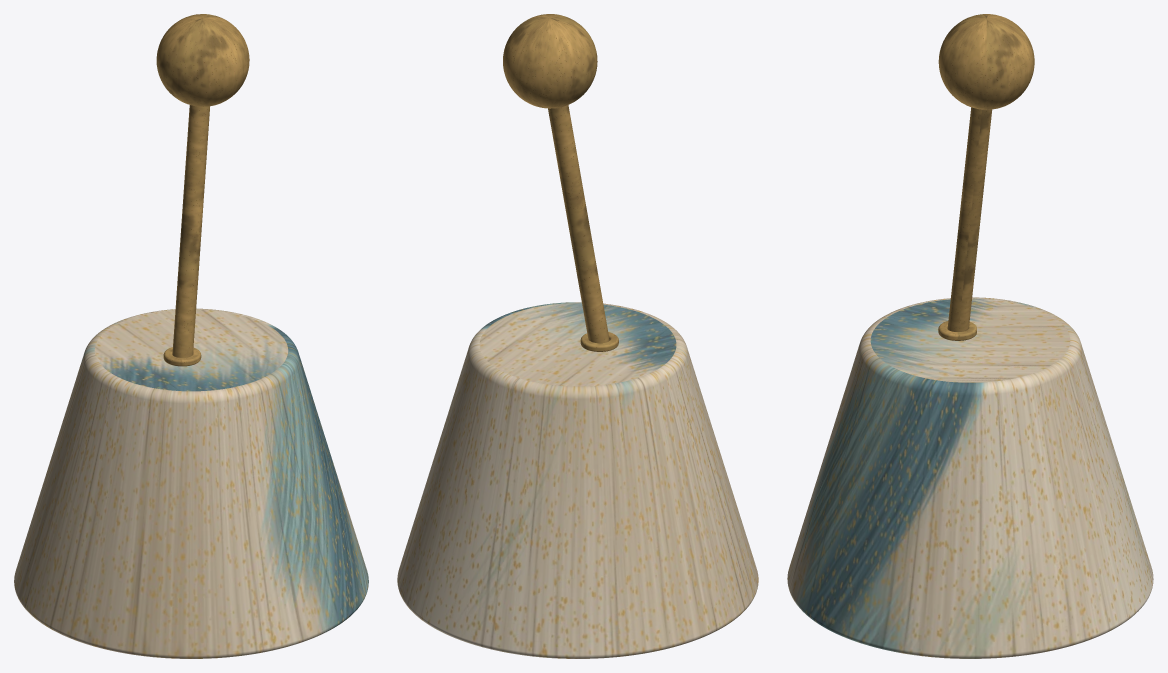
The model's file is pawn-white-hd.glb.
The picture shows the model from 3 angles, left to right: view 1: azimuth 30°, elevation 25°; view 2: azimuth 150°, elevation 25°; view 3: azimuth 270°, elevation 25°; orthographic projection. The views are drawn at different scales.
Parts seen in each view (by area): view 1: Telo, Hlavicka, Jehla; view 2: Telo, Hlavicka, Jehla; view 3: Telo, Hlavicka, Jehla.
Part boxes in pixels (bbox=[...]): Telo: bbox=[14, 308, 368, 658]; Hlavicka: bbox=[156, 14, 249, 106]; Jehla: bbox=[172, 105, 209, 357]; Telo: bbox=[397, 302, 758, 658]; Hlavicka: bbox=[503, 14, 597, 108]; Jehla: bbox=[548, 105, 609, 343]; Telo: bbox=[787, 297, 1153, 658]; Hlavicka: bbox=[938, 14, 1034, 109]; Jehla: bbox=[947, 107, 992, 331].
Bounding box in the file's own units: 0.6353 × 1.1 × 0.6352.
Materials: 3 (3 with a texture image).
